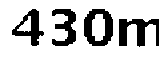0: (82, 5, 116, 48)
3: (49, 8, 77, 51)
4: (8, 8, 46, 51)
m: (115, 17, 160, 49)
